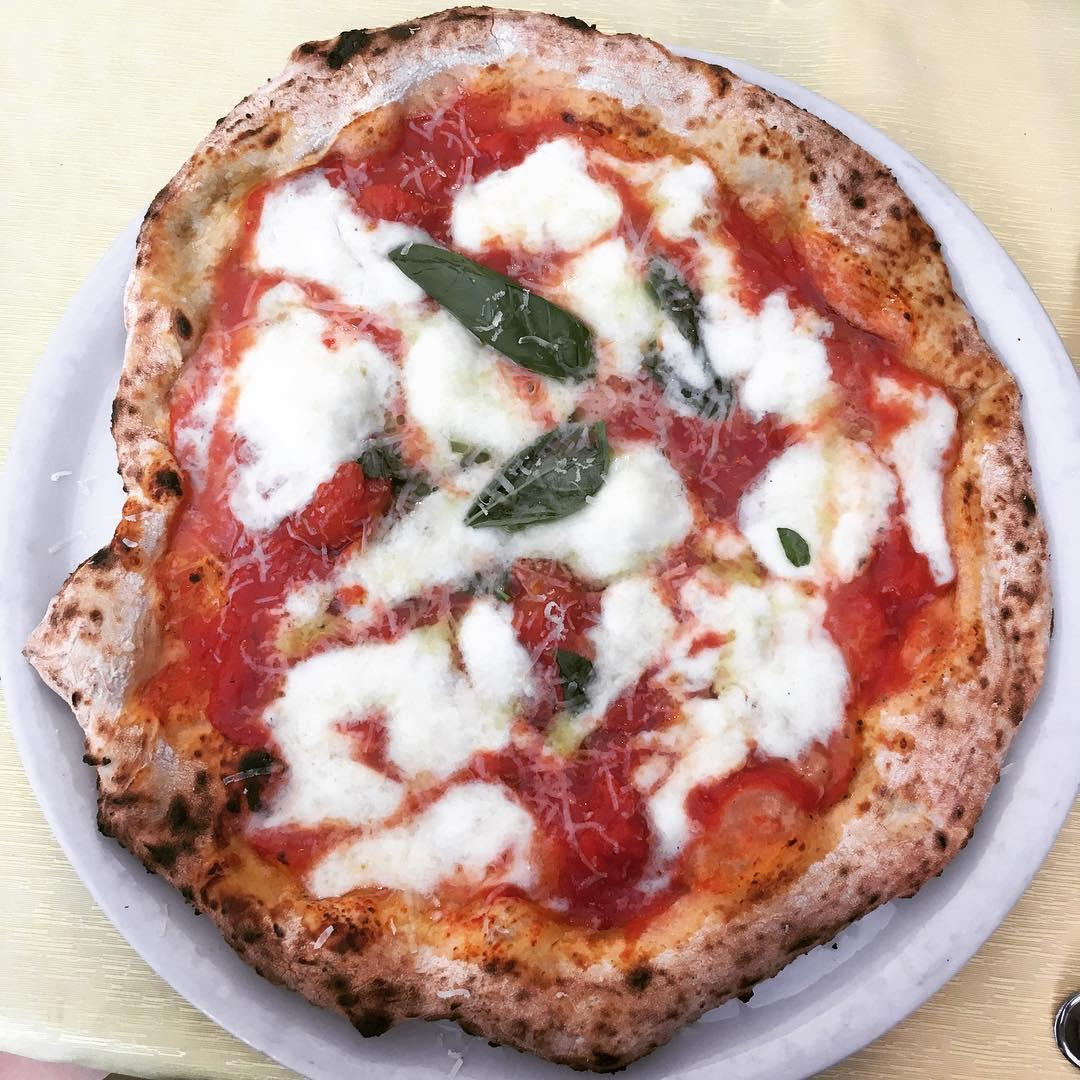Basil: (408, 244, 591, 374), (468, 419, 605, 520), (653, 262, 727, 418), (548, 652, 597, 713), (777, 527, 811, 565)
Cheese: (292, 645, 499, 790), (241, 324, 393, 508), (682, 594, 834, 743), (263, 175, 422, 317), (746, 448, 871, 573), (449, 163, 618, 249), (566, 469, 703, 568), (706, 312, 836, 410), (333, 501, 470, 580), (349, 805, 519, 867), (581, 254, 664, 358)
Pizza: (72, 23, 1027, 1033)
